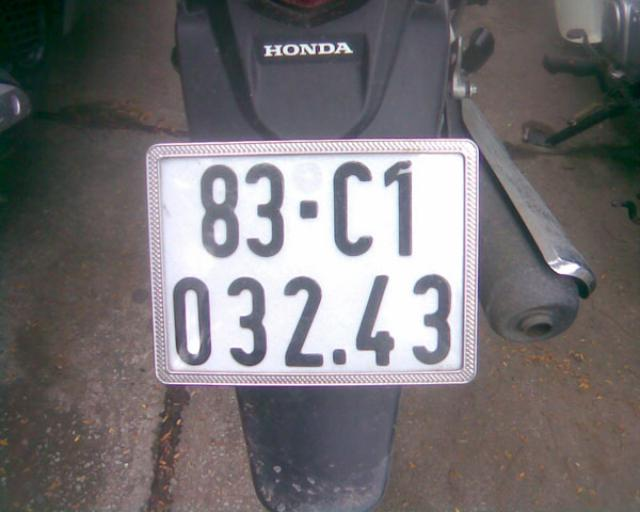plate: (148, 140, 474, 382)
